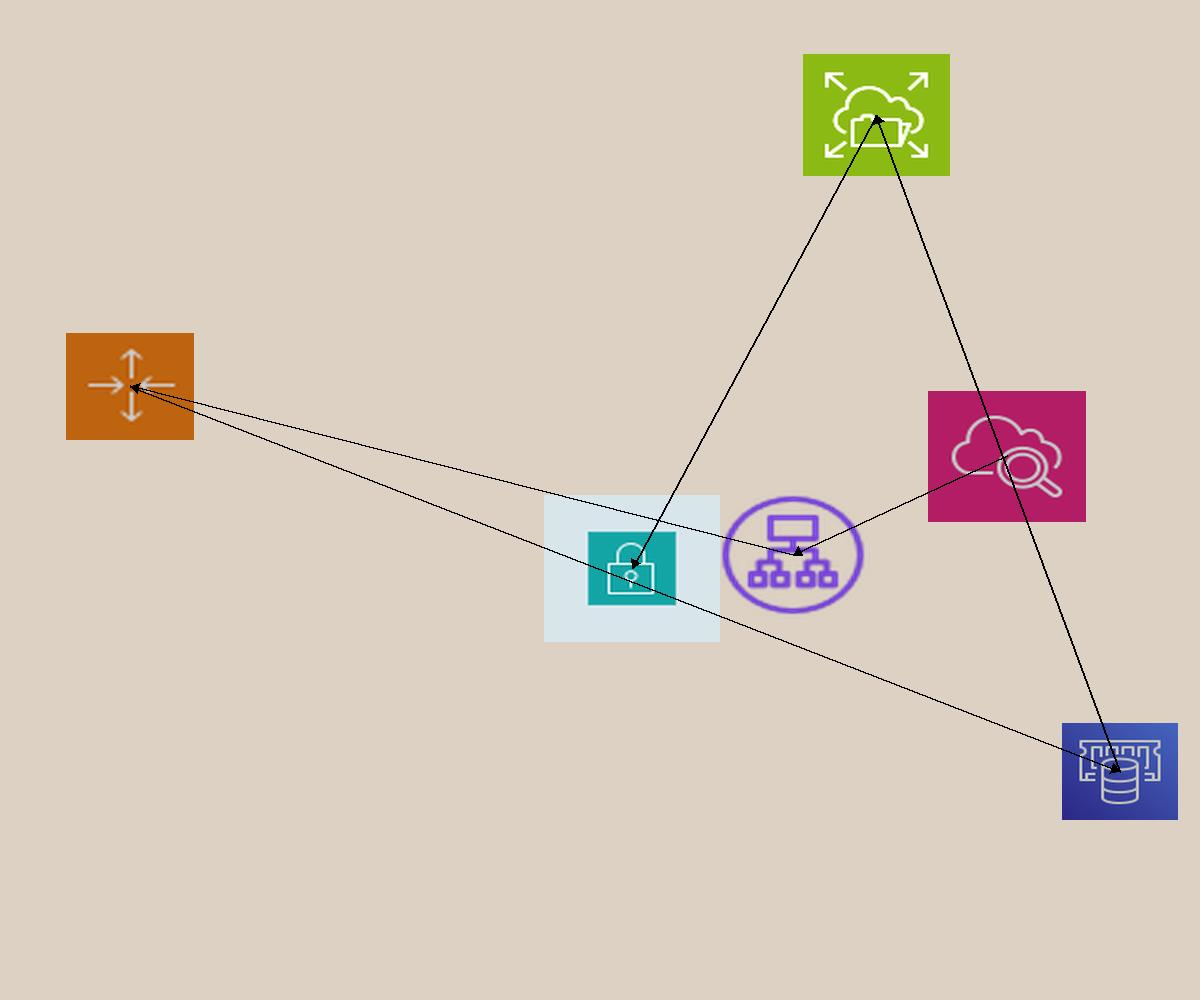AWS-CloudWatch: (928, 391, 1086, 522)
AWS-EFS: (803, 54, 950, 176)
AWS-ElastiCache: (1062, 723, 1178, 820)
AWS-Private-subnet: (544, 495, 720, 642)
AWS-Res_Elastic-Load-Balancing_Application-Load-Balancer: (716, 491, 870, 619)
AWS-Scaling-group: (66, 333, 194, 440)
